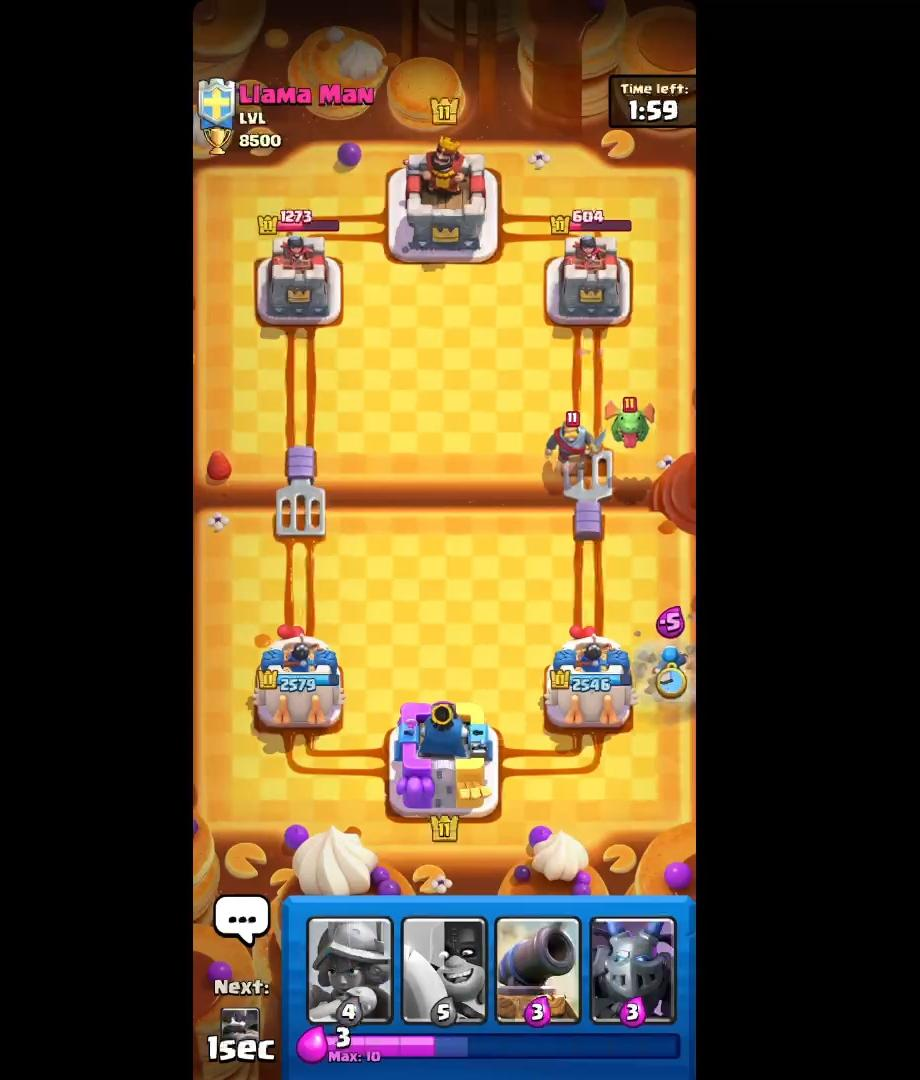Baby Dragon: (600, 392, 661, 452)
Knight: (551, 413, 608, 466)
